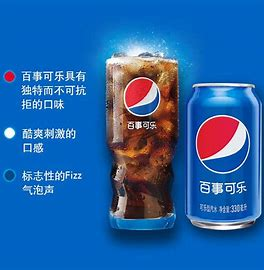Pepsi: (185, 80, 263, 234)
